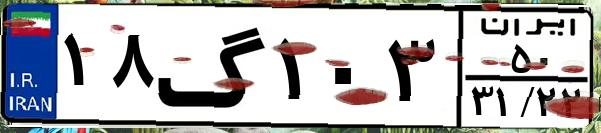0: (330, 28, 385, 110), (537, 27, 568, 80)
1: (270, 28, 330, 110), (57, 26, 110, 100), (495, 70, 520, 125)
2: (560, 70, 590, 125), (535, 70, 560, 125)
3: (385, 28, 445, 110), (470, 70, 495, 125)
5: (508, 27, 537, 80)
8: (110, 28, 156, 98)
گ: (156, 12, 270, 120)
